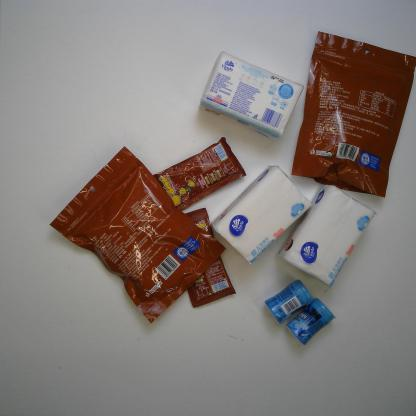Candy: (152, 136, 248, 213), (184, 207, 237, 310)
Dried Food: (48, 145, 228, 326), (290, 29, 416, 199)
Gum: (285, 297, 337, 346), (263, 278, 315, 326)
Tissue: (278, 183, 378, 289), (210, 164, 313, 266), (196, 50, 306, 140)
